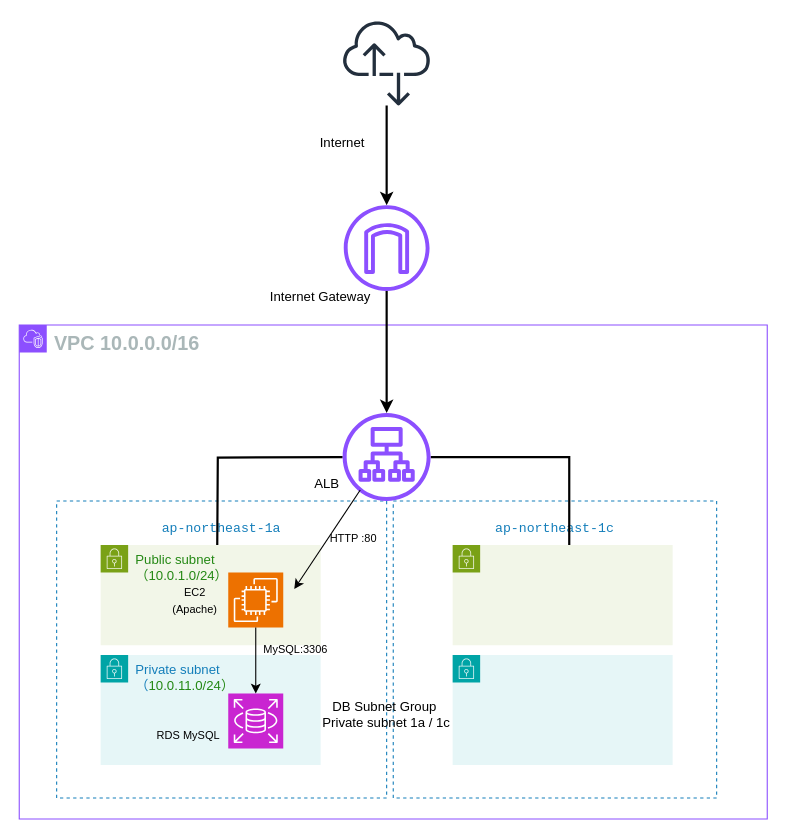
Some shapes in this 787 by 838 pixel diagram are drawn without their labels. The centre of each missing label's shape, as x and y in pixels:
"Private subnet （ 10.0.12.0/24）" goes at point 562,709.
"Public subnet（10.0.2.0/24）" goes at point 562,594.
